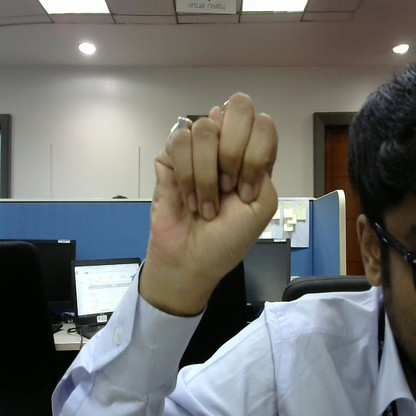n: (143, 86, 283, 285)
